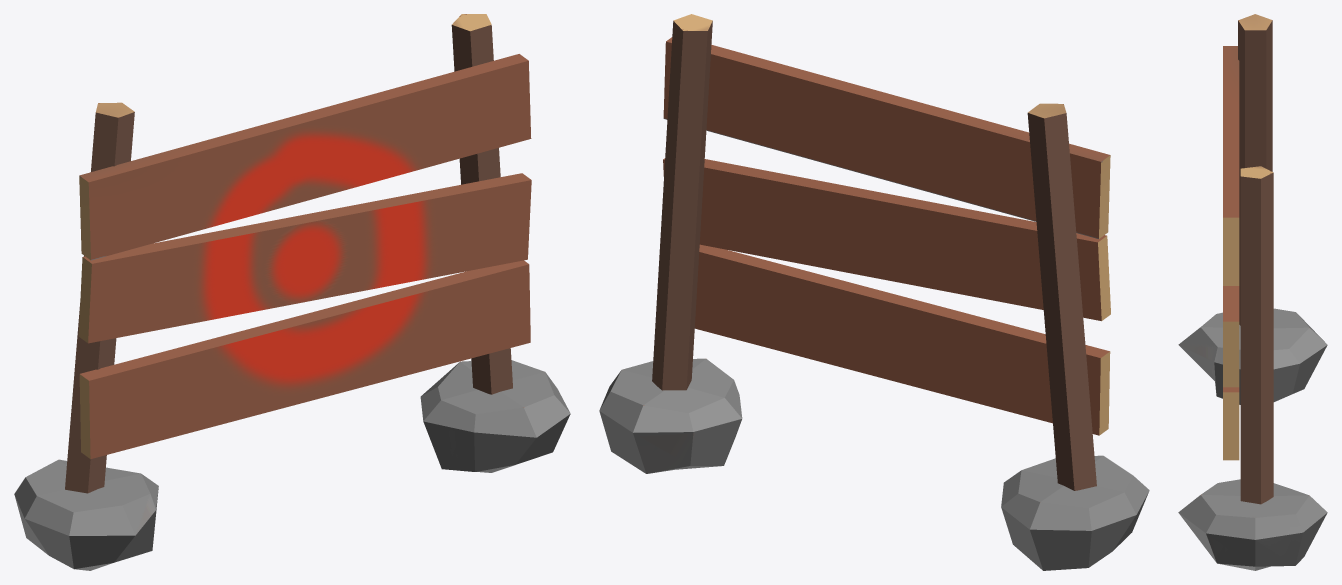
Rendered from breakable.fbx.
3 views of the same model, side by side, from view 1: azimuth 30°, elevation 25°; view 2: azimuth 150°, elevation 25°; view 3: azimuth 270°, elevation 25° (orthographic). The views are drawn at different scales.
Parts seen in each view (by area): view 1: Cube.003; view 2: Cube.003; view 3: Cube.003.
Boxes of the visible parts, <box> form: Cube.003: <box>14,14,570,570</box>; Cube.003: <box>599,14,1149,570</box>; Cube.003: <box>1178,14,1327,570</box>.
Size of the model in its own units: 684 by 561 by 194.
